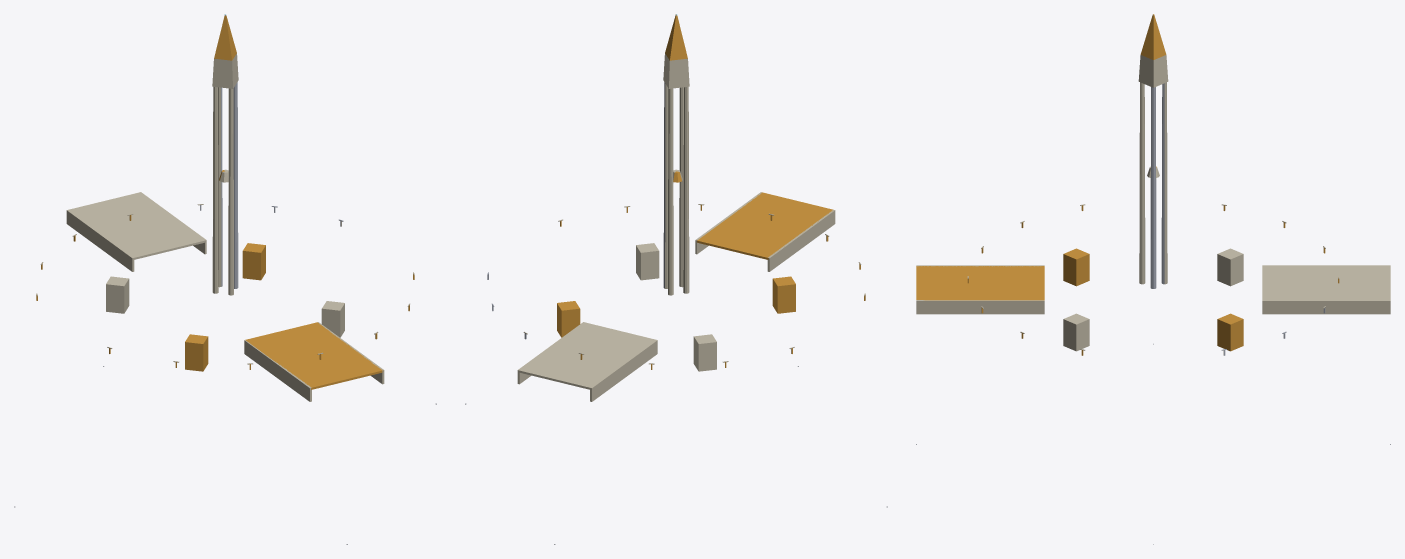
Rendered from chunk_es_shrine_court.fbx.
3 renders of one model, left to right at view 1: azimuth 30°, elevation 25°; view 2: azimuth 150°, elevation 25°; view 3: azimuth 270°, elevation 25°, orthographic. The views are drawn at different scales.
Parts seen in each view (by area): view 1: ES_SHRINE_COURT; view 2: ES_SHRINE_COURT; view 3: ES_SHRINE_COURT.
Boxes of the visible parts, box(x1,y1,x2,y2) form: ES_SHRINE_COURT: box(14, 14, 436, 544); ES_SHRINE_COURT: box(465, 14, 887, 544); ES_SHRINE_COURT: box(916, 14, 1390, 544).
Bounding box in the file's own units: 256 × 256 × 256.
